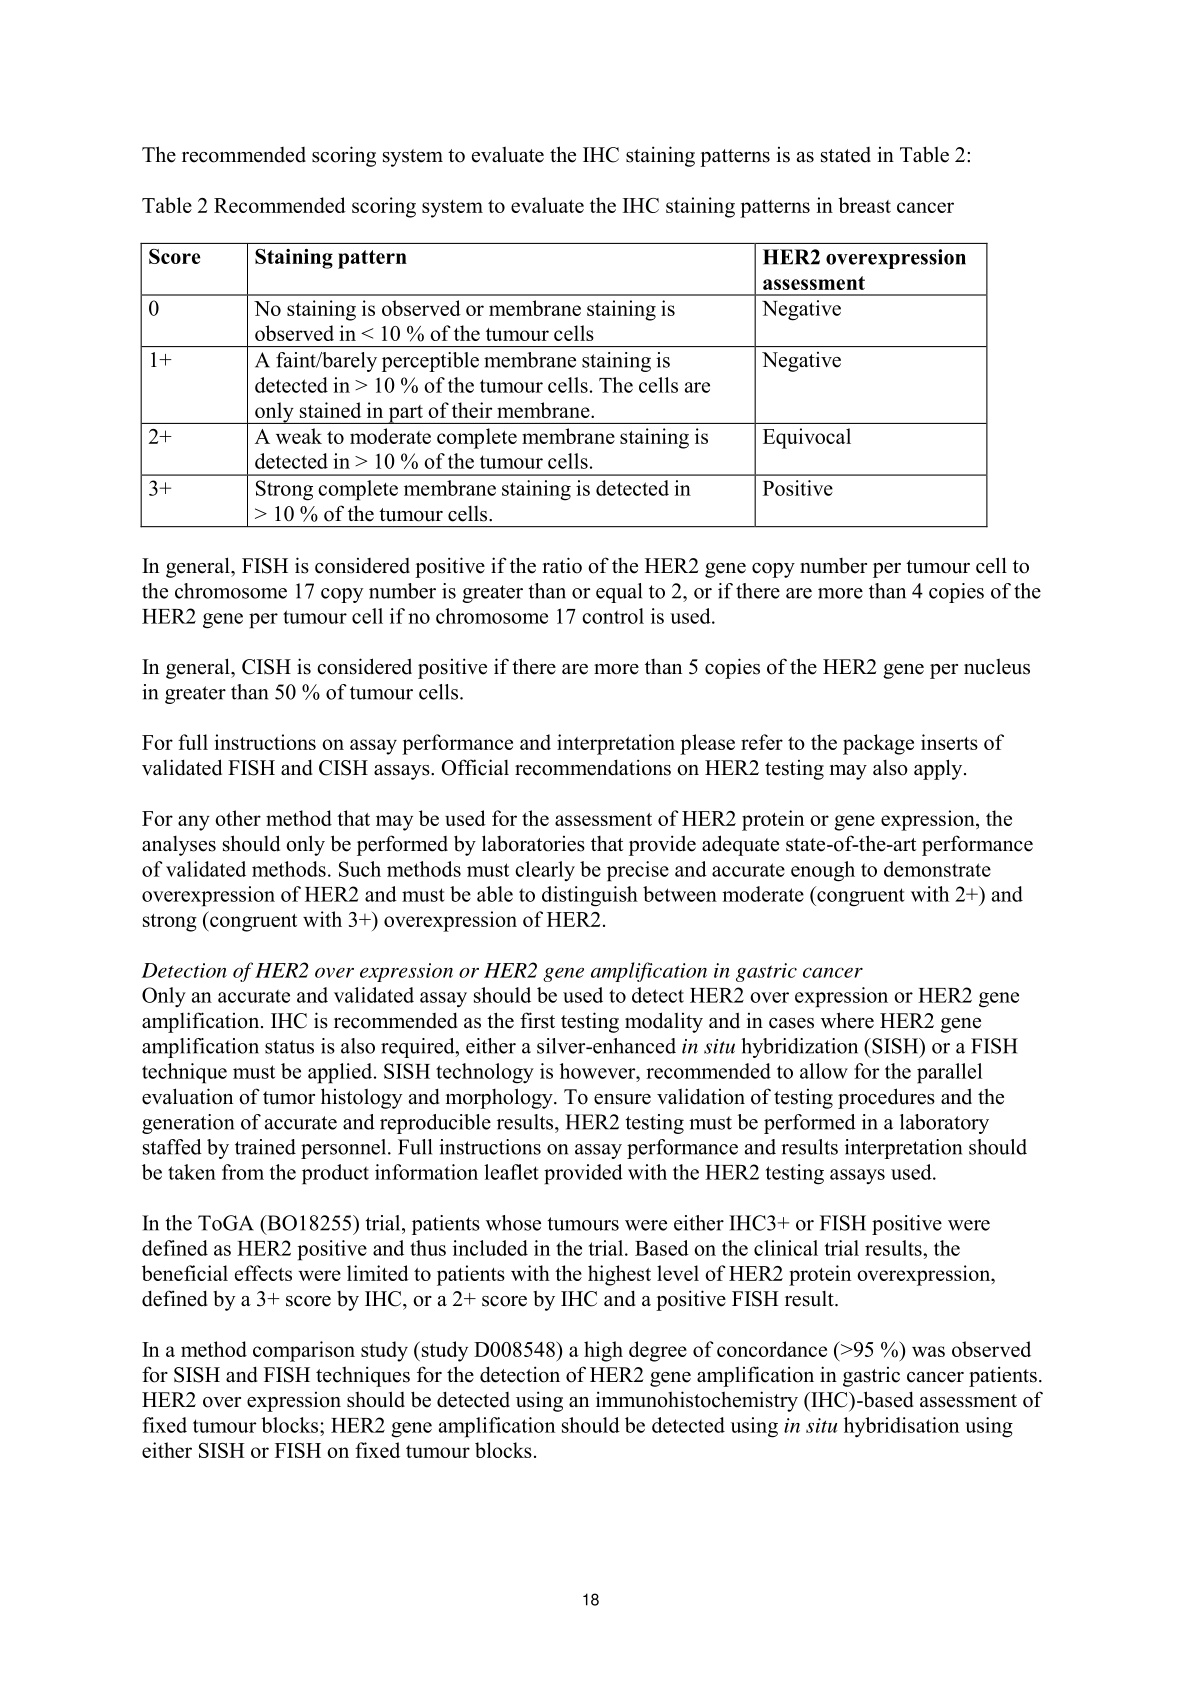full_lined: (139, 241, 989, 529)
